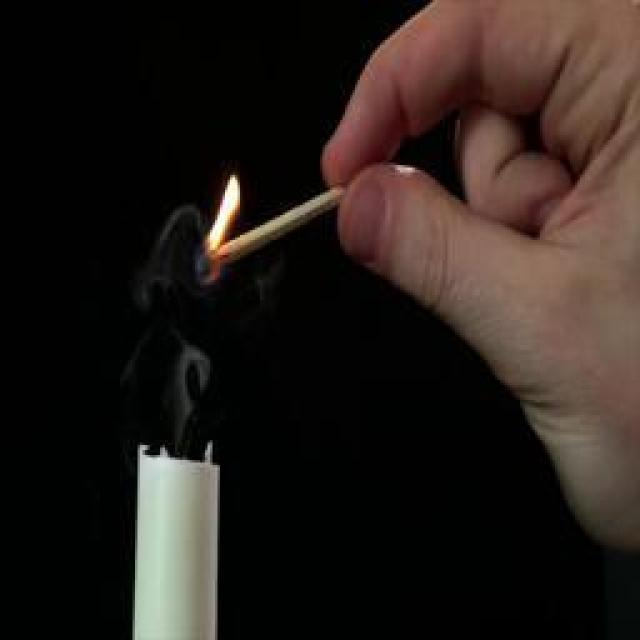Fire: (208, 174, 240, 254)
